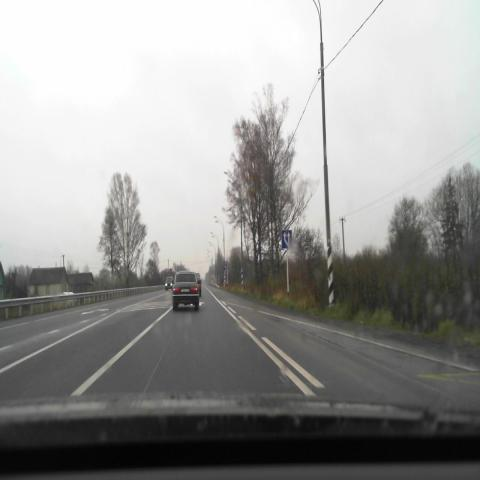5_15_3: (281, 229, 292, 249)
